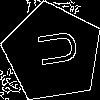U: (27, 27, 79, 70)
